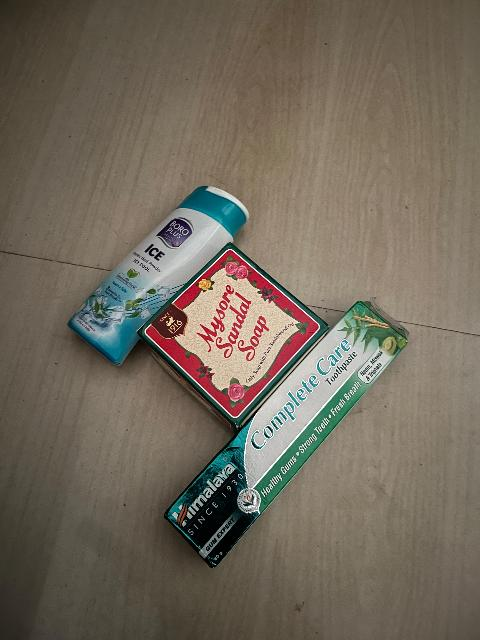boroplus: (68, 185, 251, 369)
himalaya toothpaste: (180, 295, 407, 567)
mysore sandal soap: (139, 245, 335, 423)
